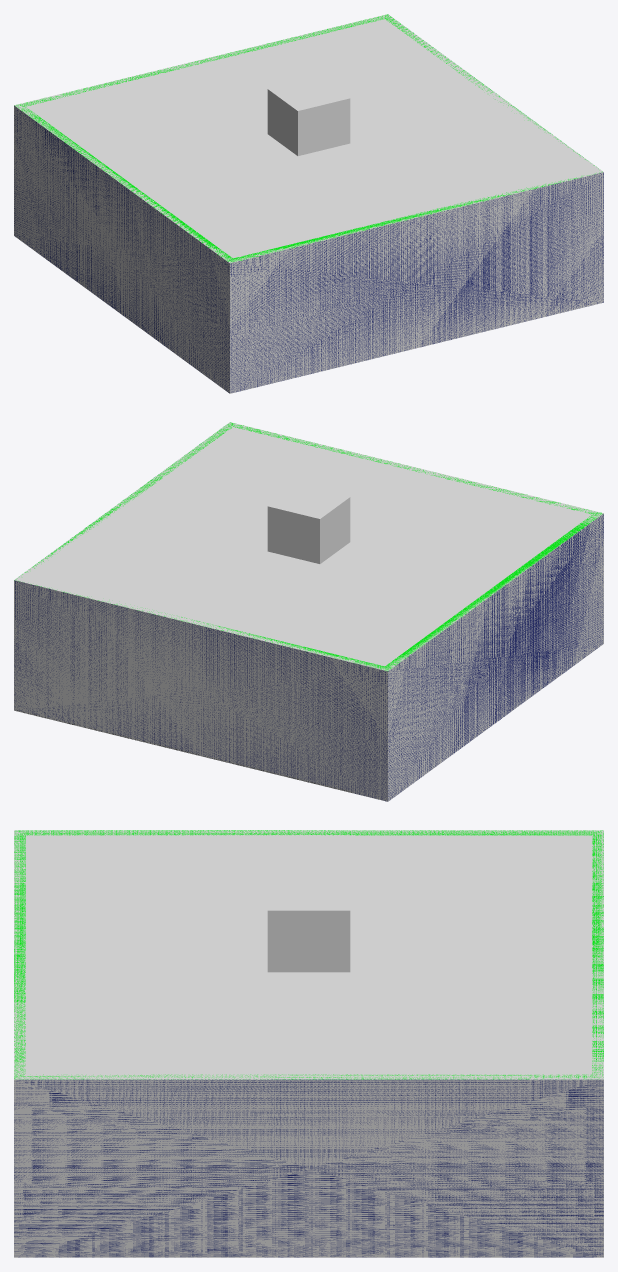
Rendered from block-power.glb.
The picture shows the model from 3 angles, top to bottom: view 1: azimuth 30°, elevation 25°; view 2: azimuth 150°, elevation 25°; view 3: azimuth 270°, elevation 25°; orthographic projection. The views are drawn at different scales.
Parts seen in each view (by area): view 1: AABB.0, PowerBlock, AABB.1; view 2: AABB.0, PowerBlock, AABB.1; view 3: AABB.0, PowerBlock, AABB.1.
Part boxes in pixels (left/top/right/bottom): AABB.0: left=14, top=14, right=603, bottom=393; PowerBlock: left=14, top=14, right=603, bottom=392; AABB.1: left=267, top=76, right=350, bottom=155; AABB.0: left=14, top=422, right=603, bottom=801; PowerBlock: left=14, top=422, right=603, bottom=801; AABB.1: left=267, top=484, right=350, bottom=563; AABB.0: left=14, top=830, right=603, bottom=1257; PowerBlock: left=14, top=830, right=603, bottom=1257; AABB.1: left=267, top=875, right=350, bottom=972.
Size of the model in its own units: 60 by 26.92 by 60.
1 material, 1 textured.
